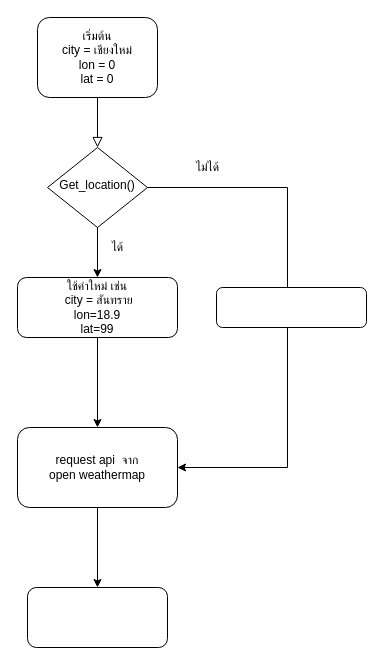
The diagram is 384 pixels wide and 665 high, and some of its shapes have lost their labels. Here are the shapes that lost their labels. From the top down, the centre of each, then its label:
At point 291,307: "ใช้ค่าเริ่มต้น city = เชียงใหม่".
At point 97,617: "แสดงค่าสภาพอากาศ".
